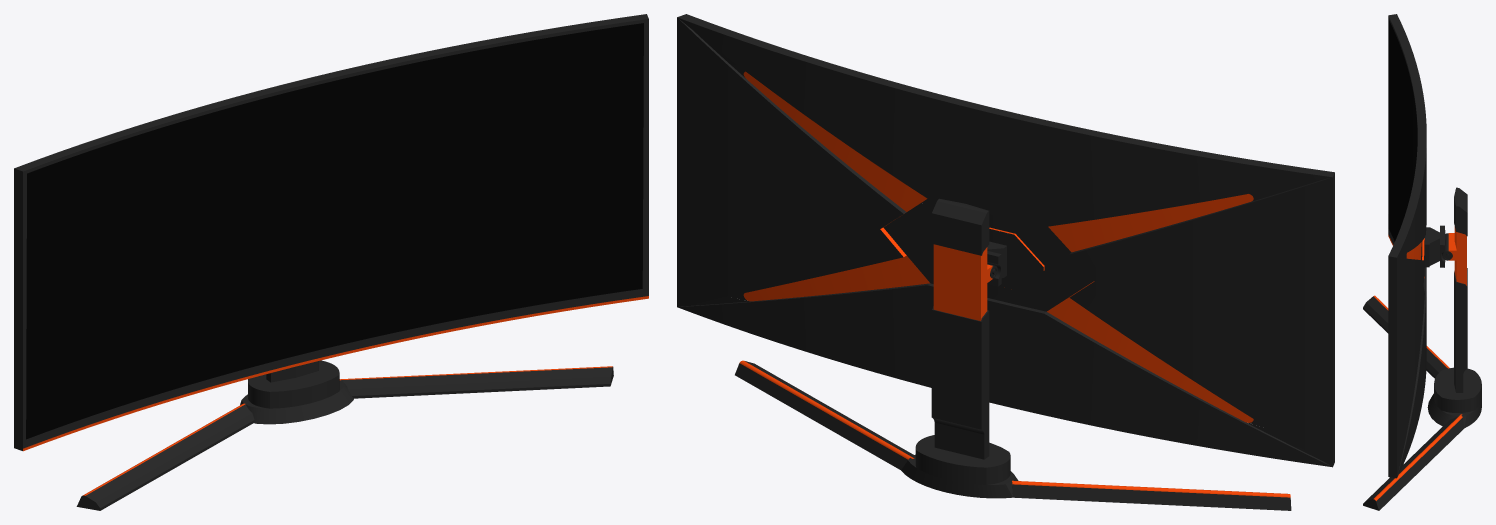
The model's file is CurvedMonitor.dae.
3 renders of one model, left to right at view 1: azimuth 30°, elevation 25°; view 2: azimuth 150°, elevation 25°; view 3: azimuth 270°, elevation 25°, orthographic. The views are drawn at different scales.
Parts seen in each view (by area): view 1: PlayUp_PlayUpGrp0; view 2: PlayUp_PlayUpGrp0; view 3: PlayUp_PlayUpGrp0.
Boxes of the visible parts, bbox=[...] form: PlayUp_PlayUpGrp0: bbox=[14, 14, 648, 510]; PlayUp_PlayUpGrp0: bbox=[677, 14, 1334, 510]; PlayUp_PlayUpGrp0: bbox=[1363, 14, 1481, 510].
Size of the model in its own units: 0.9028 by 0.4671 by 0.1859.
